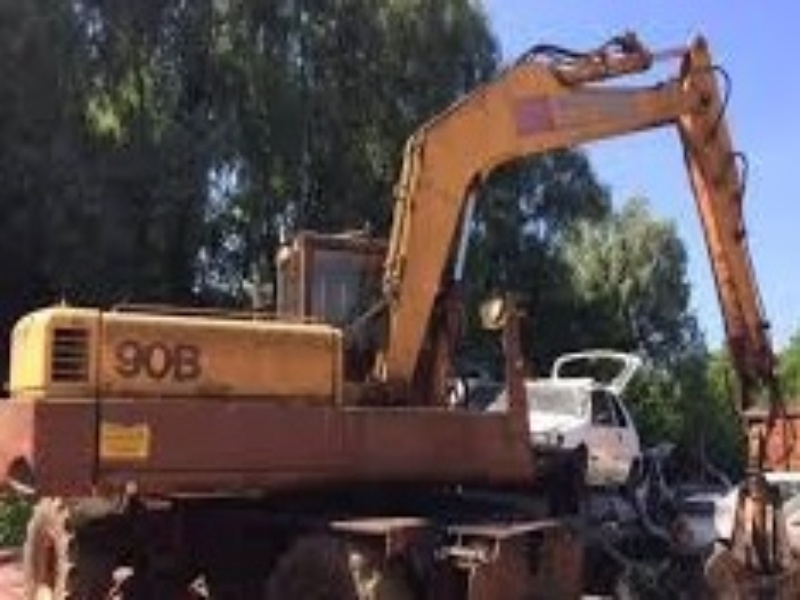wajueji: (11, 141, 618, 600)
